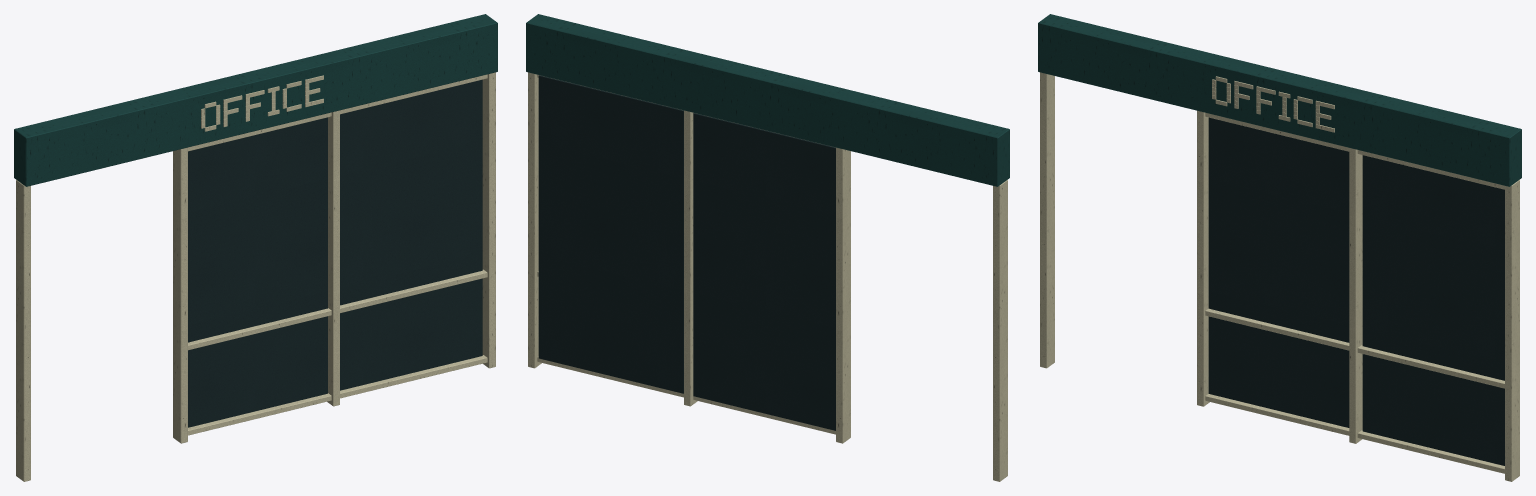
The model's file is lobby_glazed_facade.glb.
3 renders of one model, left to right at view 1: azimuth 30°, elevation 25°; view 2: azimuth 150°, elevation 25°; view 3: azimuth 330°, elevation 25°, orthographic.
Visible parts, largest first — view 1: lobby_glazed_facade; view 2: lobby_glazed_facade; view 3: lobby_glazed_facade.
Part boxes in pixels (x1,y1,x2,y2): lobby_glazed_facade: [14, 14, 497, 481]; lobby_glazed_facade: [526, 14, 1009, 481]; lobby_glazed_facade: [1038, 14, 1521, 481].
Bounding box in the file's own units: 4 × 2.8 × 0.1905.
Materials: 3 (3 with a texture image).
